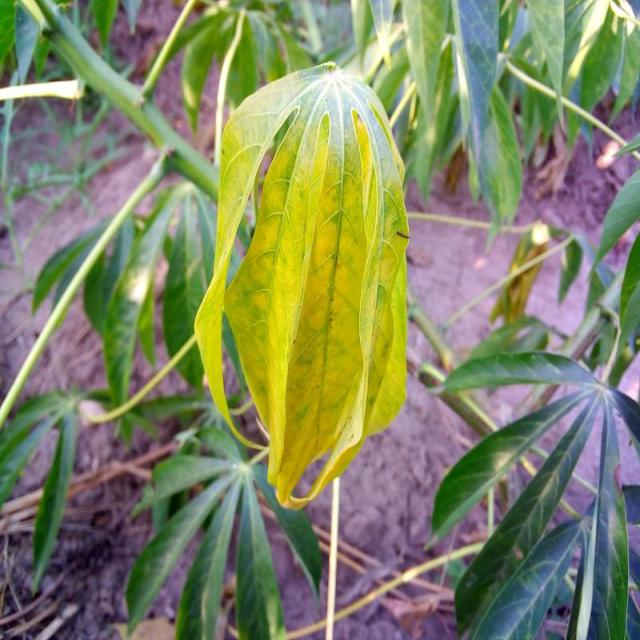cassava leaf: (193, 60, 410, 510)
